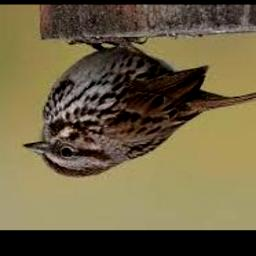Sparrow: (23, 36, 256, 177)
